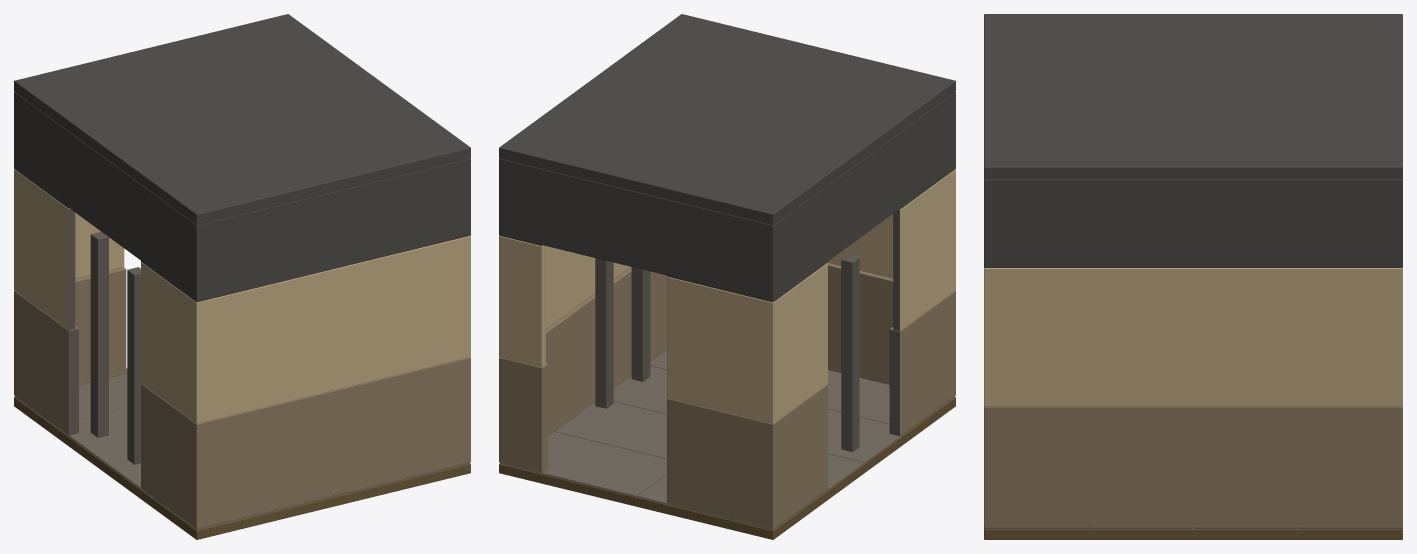
The model's file is gen-ward.glb.
The picture shows the model from 3 angles, left to right: view 1: azimuth 30°, elevation 25°; view 2: azimuth 150°, elevation 25°; view 3: azimuth 270°, elevation 25°; orthographic projection. The views are drawn at different scales.
Parts seen in each view (by area): view 1: THE WARD; view 2: THE WARD; view 3: THE WARD.
Part boxes in pixels (<box>): THE WARD: <box>14,14,470,539</box>; THE WARD: <box>499,14,955,539</box>; THE WARD: <box>984,14,1402,539</box>.
Bounding box in the file's own units: 2.6 × 2.95 × 3.
